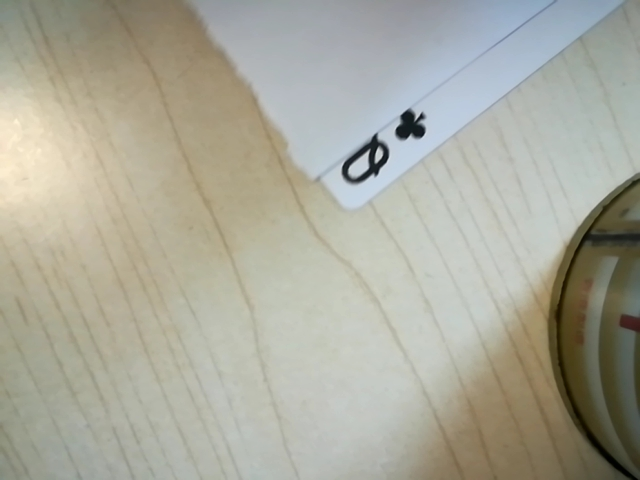mh q: (326, 104, 436, 197)
